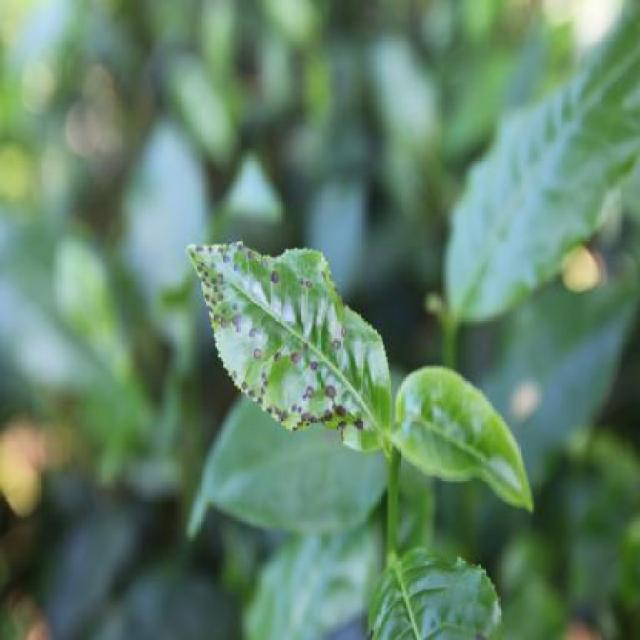Tea Mosquito bug infested leaf: (178, 202, 394, 446)
